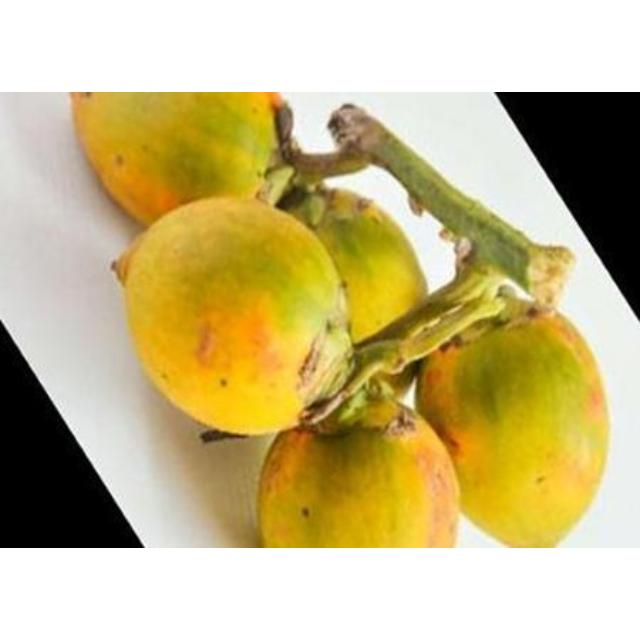good: (117, 198, 345, 434), (417, 306, 606, 546), (68, 94, 284, 224), (257, 410, 458, 546), (292, 186, 424, 348)
